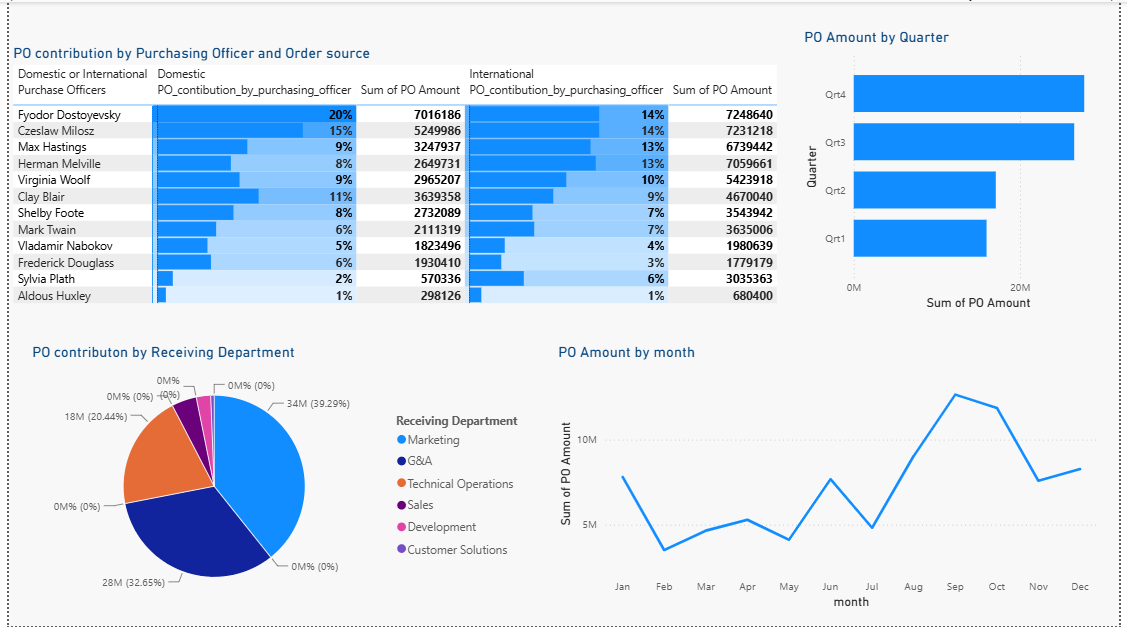

This screenshot's page, from the dashboard's own definition file:
{"tool":"powerbi","page":{"name":"Page 2","canvas":[1280,720],"ordinal":1},"visuals":[{"type":"lineChart","title":"PO Amount by month","fields":{"Category":["Datetable.month"],"Y":["Sum(Procurement Data.PO Amount)"]},"box":[628.8,393.5,631.2,311.5],"z":0},{"type":"barChart","title":"PO Amount by Quarter","fields":{"Category":["Datetable.Quarter"],"Y":["Sum(Procurement Data.PO Amount)"]},"box":[912.7,30,366.9,330],"z":1000},{"type":"pivotTable","title":"PO contribution by Purchasing Officer and Order source","fields":{"Rows":["Procurement Data.Purchase Officers"],"Values":["calculation.perc_of_total_PO","Sum(Procurement Data.PO Amount)"],"Columns":["Procurement Data.Domestic or International"]},"box":[0,48.5,896.5,311.5],"z":2000},{"type":"pieChart","title":"PO contributon by Receiving Department","fields":{"Category":["Procurement Data.Receiving Department"],"Y":["calculation.PO_contribution_by_receiving_department","Sum(Procurement Data.PO Amount)"]},"box":[21.9,393.5,582.7,311.5],"z":3000}]}

Visuals, with their boxes in screenshot pixels (x1, y1, x2, y2), scaled from the page's 1280x720 canvas onto the 1127x627 screenshot:
"PO Amount by month" lineChart: rect(554, 343, 1109, 614)
"PO Amount by Quarter" barChart: rect(804, 26, 1126, 314)
"PO contribution by Purchasing Officer and Order source" pivotTable: rect(0, 42, 789, 314)
"PO contributon by Receiving Department" pieChart: rect(19, 343, 532, 614)
